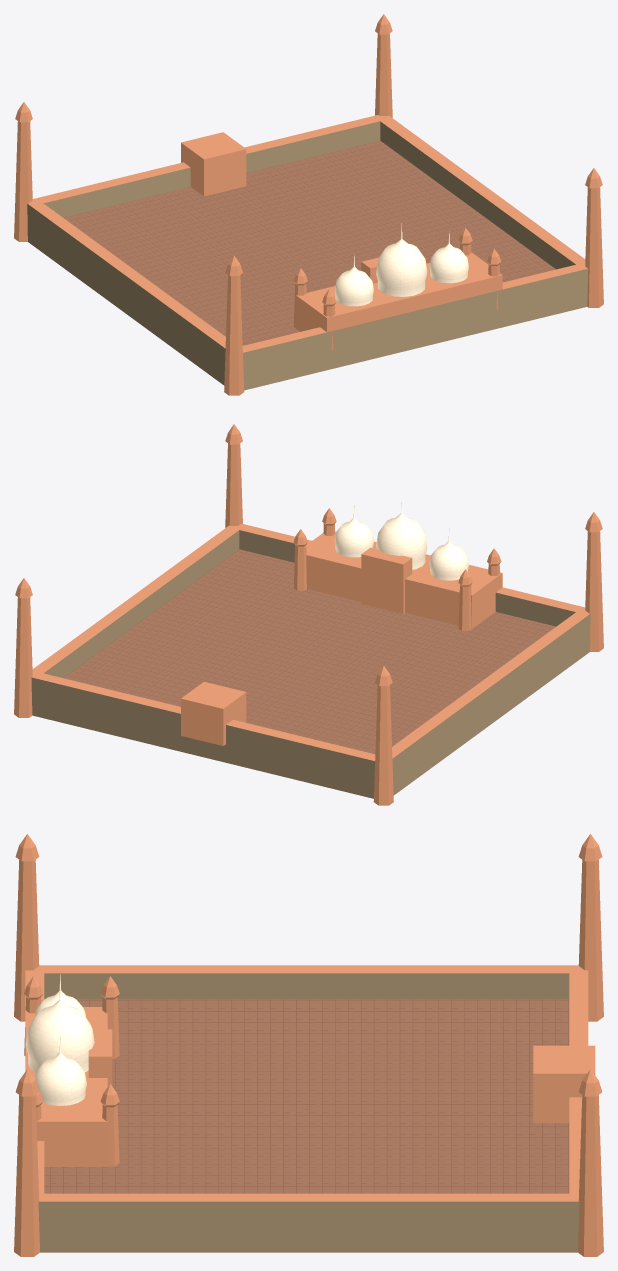
The model's file is badshahi_mosque_far.glb.
3 views of the same model, one above another, from view 1: azimuth 30°, elevation 25°; view 2: azimuth 150°, elevation 25°; view 3: azimuth 270°, elevation 25° (orthographic). The views are drawn at different scales.
Parts seen in each view (by area): view 1: m_court_paving, m_outer_buff, m_sandstone, m_dome_marble; view 2: m_court_paving, m_sandstone, m_outer_buff, m_dome_marble; view 3: m_court_paving, m_outer_buff, m_sandstone, m_dome_marble.
Boxes of the visible parts, left/top/right/bottom form: m_court_paving: left=64, top=140, right=555, bottom=345; m_outer_buff: left=27, top=121, right=588, bottom=390; m_sandstone: left=14, top=14, right=603, bottom=395; m_dome_marble: left=334, top=223, right=468, bottom=306; m_court_paving: left=63, top=549, right=555, bottom=754; m_sandstone: left=14, top=424, right=603, bottom=805; m_outer_buff: left=31, top=530, right=590, bottom=798; m_dome_marble: left=334, top=497, right=468, bottom=580; m_court_paving: left=44, top=999, right=569, bottom=1193; m_outer_buff: left=38, top=973, right=579, bottom=1252; m_sandstone: left=14, top=834, right=603, bottom=1256; m_dome_marble: left=25, top=974, right=94, bottom=1105.
Bounding box in the file's own units: 179 × 62.25 × 182.
Materials: 4 (2 with a texture image).
